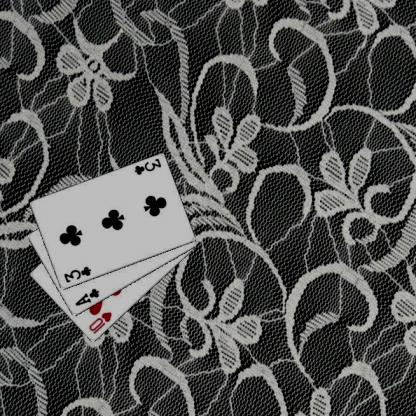10H: (86, 309, 112, 335)
3C: (61, 264, 92, 284), (132, 156, 162, 176)
AC: (72, 286, 100, 307)
